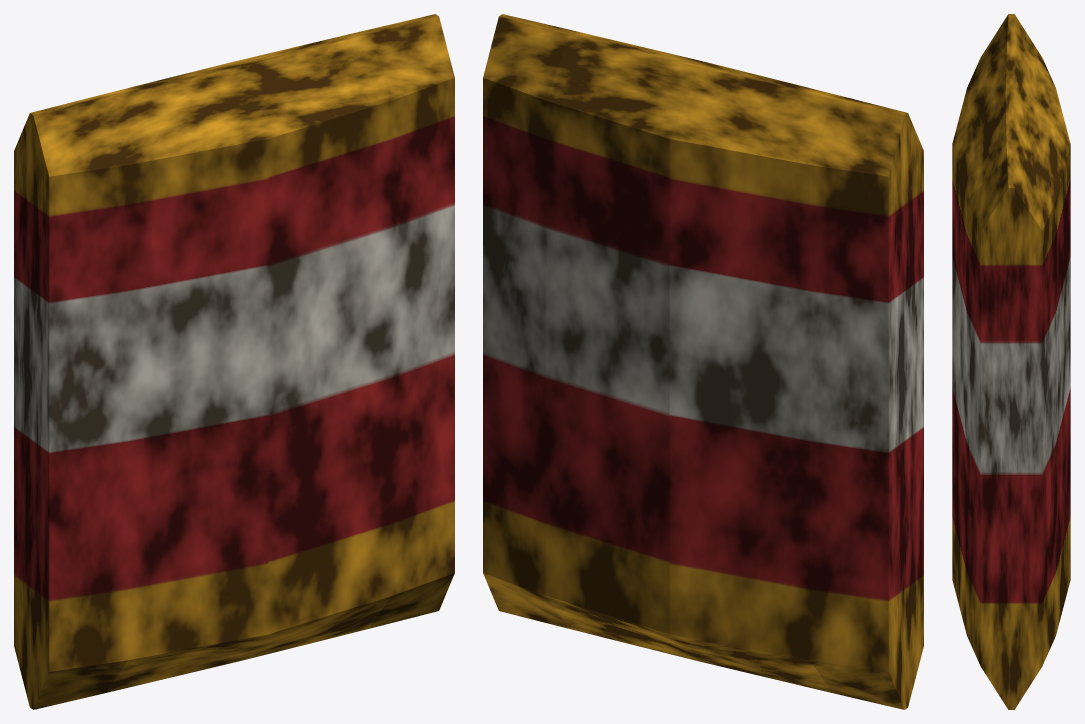
File: SnackBekas.fbx
3 views of the same model, side by side, from view 1: azimuth 30°, elevation 25°; view 2: azimuth 150°, elevation 25°; view 3: azimuth 270°, elevation 25° (orthographic). The views are drawn at different scales.
Visible parts, largest first — view 1: BungkusMakanan; view 2: BungkusMakanan; view 3: BungkusMakanan.
Part boxes in pixels (left/top/right/bottom): BungkusMakanan: left=14, top=14, right=454, bottom=709; BungkusMakanan: left=483, top=14, right=923, bottom=709; BungkusMakanan: left=952, top=14, right=1070, bottom=709.
Bounding box in the file's own units: 200 × 280 × 57.6.
1 material, 1 textured.
